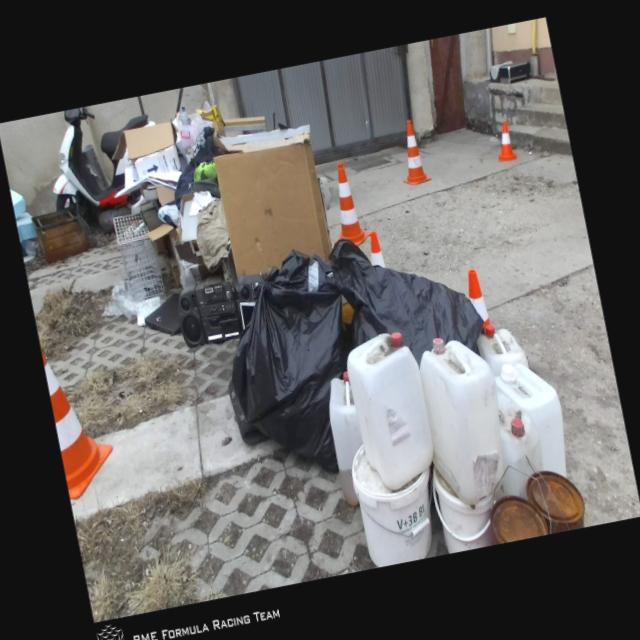large_orange_cone: (41, 342, 120, 496), (321, 159, 371, 250), (392, 119, 432, 188)
orange_cone: (463, 268, 492, 334), (492, 120, 518, 162)
